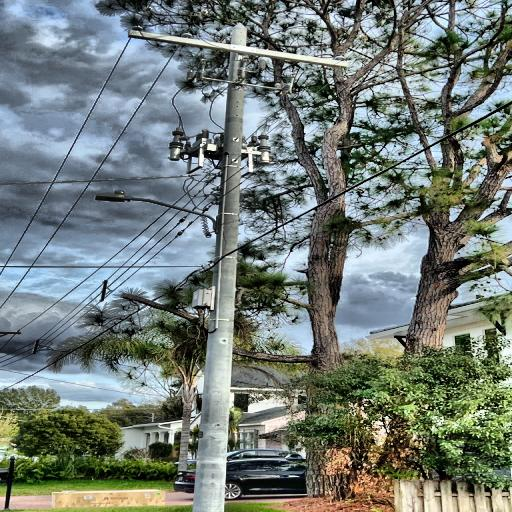pole: (181, 19, 250, 512)
street light: (91, 188, 227, 235)
